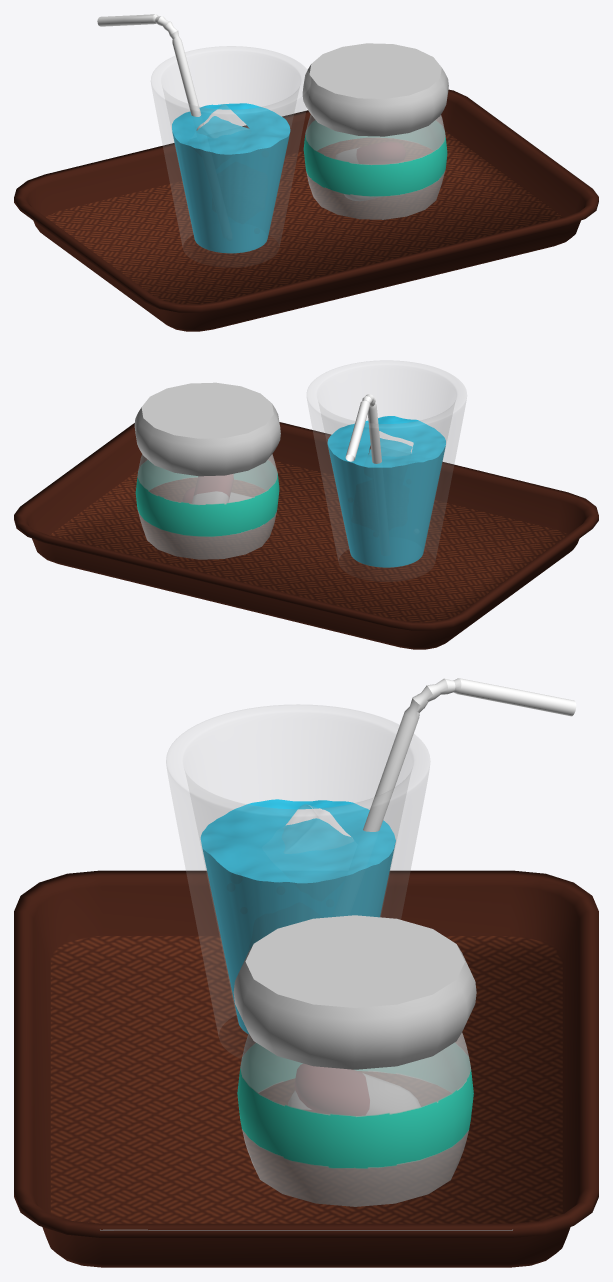
Rendered from tray_water_pill.glb.
3 views of the same model, one above another, from view 1: azimuth 30°, elevation 25°; view 2: azimuth 150°, elevation 25°; view 3: azimuth 270°, elevation 25° (orthographic). The views are drawn at different scales.
Visible parts, largest first — view 1: Cube, Vert_10, Circle_11, Cylinder.006, Cylinder.007, Vert.001_14, Cube.006; view 2: Cube, Vert_10, Circle_11, Cylinder.006, Cylinder.007, Vert.001_14, Cube.006; view 3: Cube, Vert_10, Cylinder.006, Cylinder.007, Circle_11, Vert.001_14, Cube.006.
Boxes of the visible parts, left/top/right/bottom form: Cube: left=14, top=89, right=598, bottom=331; Vert_10: left=151, top=46, right=310, bottom=253; Circle_11: left=172, top=103, right=290, bottom=253; Cylinder.006: left=303, top=114, right=447, bottom=219; Cylinder.007: left=302, top=43, right=448, bottom=136; Vert.001_14: left=97, top=14, right=203, bottom=130; Cube.006: left=335, top=142, right=405, bottom=163; Cube: left=14, top=422, right=598, bottom=649; Vert_10: left=307, top=360, right=466, bottom=567; Circle_11: left=327, top=416, right=445, bottom=567; Cylinder.006: left=135, top=454, right=279, bottom=559; Cylinder.007: left=134, top=382, right=280, bottom=476; Vert.001_14: left=345, top=394, right=381, bottom=463; Cube.006: left=192, top=474, right=233, bottom=503; Cube: left=14, top=870, right=598, bottom=1267; Vert_10: left=166, top=704, right=430, bottom=1037; Cylinder.006: left=237, top=1032, right=473, bottom=1206; Cylinder.007: left=233, top=915, right=476, bottom=1069; Circle_11: left=200, top=799, right=395, bottom=1033; Vert.001_14: left=363, top=678, right=576, bottom=831; Cube.006: left=295, top=1064, right=420, bottom=1115.
Size of the model in its own units: 0.9263 by 0.4141 by 0.6374.
Materials: 9 (5 with a texture image).
